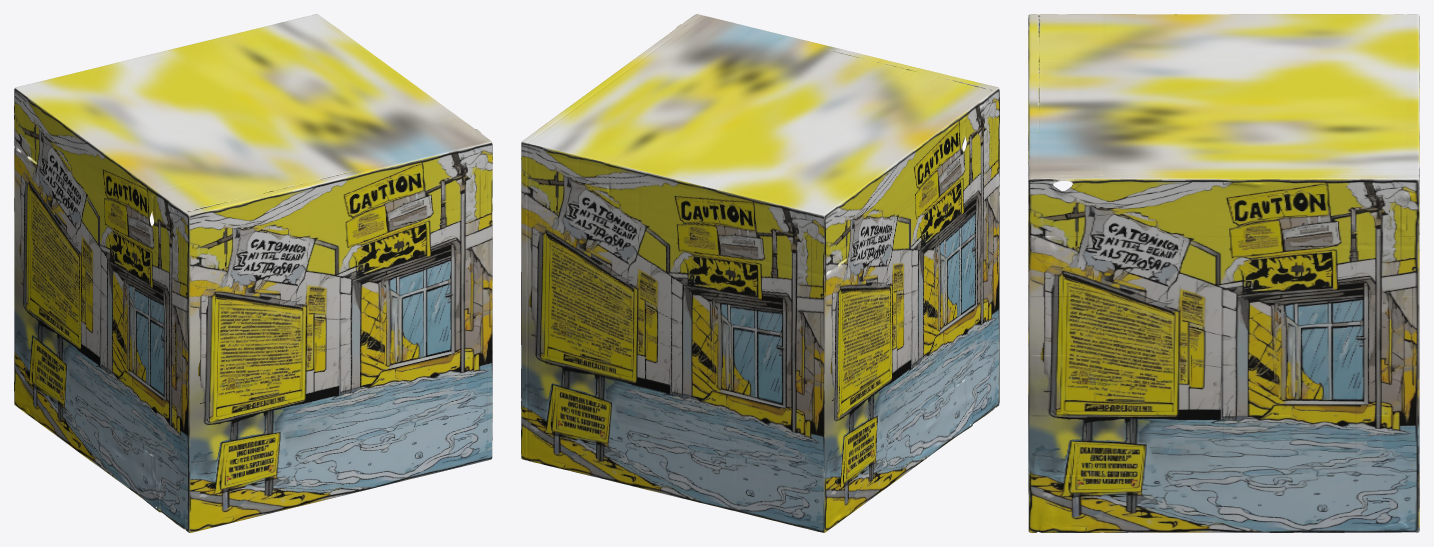
File: wet_floor.glb
3 renders of one model, left to right at view 1: azimuth 30°, elevation 25°; view 2: azimuth 150°, elevation 25°; view 3: azimuth 270°, elevation 25°, orthographic. The views are drawn at different scales.
Parts seen in each view (by area): view 1: wet_floor; view 2: wet_floor; view 3: wet_floor.
Boxes of the visible parts, <box> form: wet_floor: <box>14,14,492,532</box>; wet_floor: <box>521,14,999,532</box>; wet_floor: <box>1028,14,1419,532</box>.
Bounding box in the file's own units: 0.6591 × 0.6524 × 0.6525.
1 material, 1 textured.
